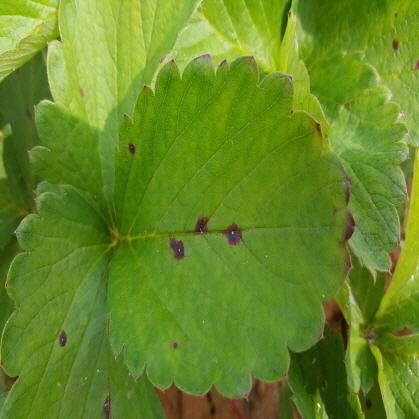Leaf Spot: (106, 53, 356, 402), (27, 0, 204, 237), (0, 184, 167, 418), (297, 0, 418, 146), (0, 46, 52, 212), (358, 378, 387, 418)
